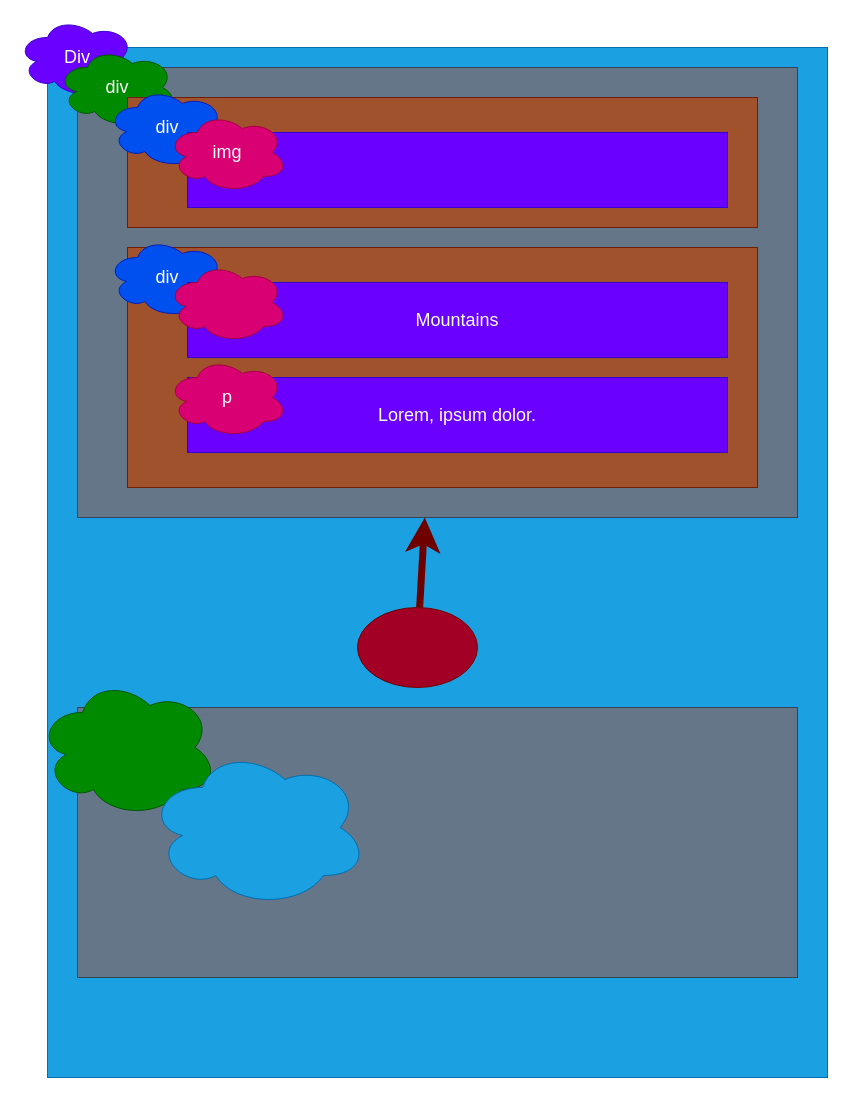
Image size: 845x1095. Some labels were removed from this diagram. The shapes that lost their labels are listed below. From the top down, each one's centre as x and y in pixels, then its label:
point (227, 302): h2
point (417, 647): Div * 6
point (127, 747): div class="clear"
point (257, 827): css: .clear { clear: both;}
